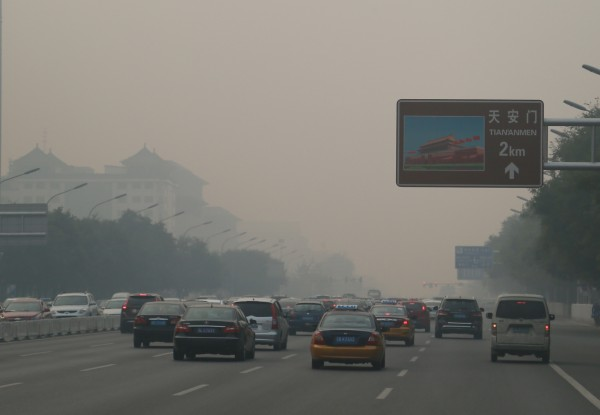car: (172, 304, 257, 362), (309, 309, 386, 370), (487, 294, 553, 363), (228, 297, 289, 350), (132, 301, 187, 347), (434, 298, 482, 338), (371, 304, 414, 344), (118, 295, 162, 332), (284, 301, 330, 334), (49, 292, 99, 317), (0, 297, 48, 321), (401, 298, 432, 333), (98, 295, 123, 316)
